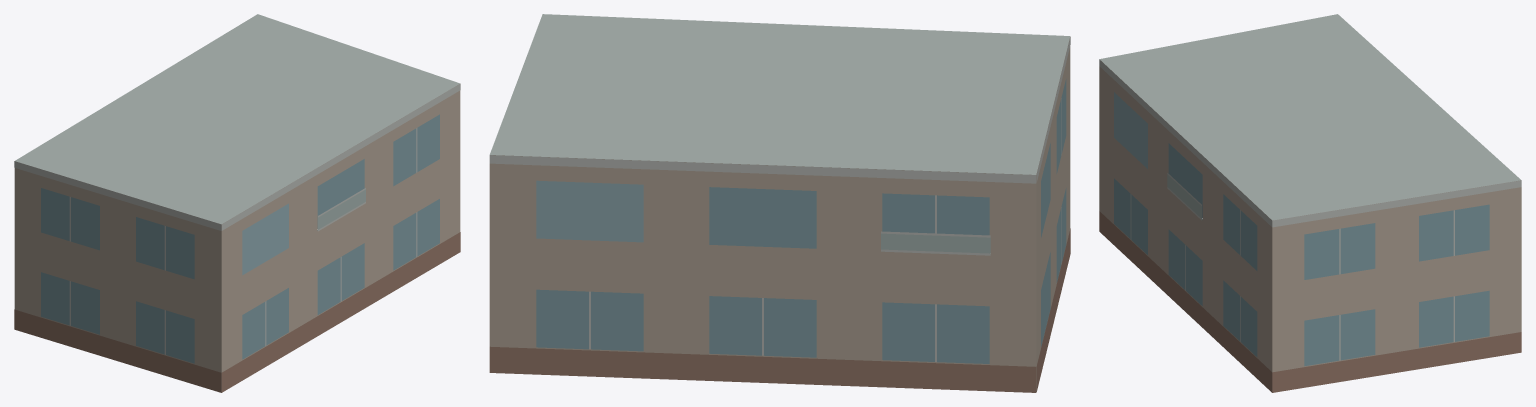
Rendered from survey-upis-32598897.glb.
3 views of the same model, side by side, from view 1: azimuth 30°, elevation 25°; view 2: azimuth 150°, elevation 25°; view 3: azimuth 270°, elevation 25° (orthographic). The views are drawn at different scales.
Parts seen in each view (by area): view 1: survey-upis-32598897.tmp; view 2: survey-upis-32598897.tmp; view 3: survey-upis-32598897.tmp.
Part boxes in pixels (left/top/right/bottom): survey-upis-32598897.tmp: left=14, top=14, right=460, bottom=392; survey-upis-32598897.tmp: left=489, top=14, right=1070, bottom=392; survey-upis-32598897.tmp: left=1099, top=14, right=1521, bottom=392.
Size of the model in its own units: 15.69 by 6.1 by 13.56.
